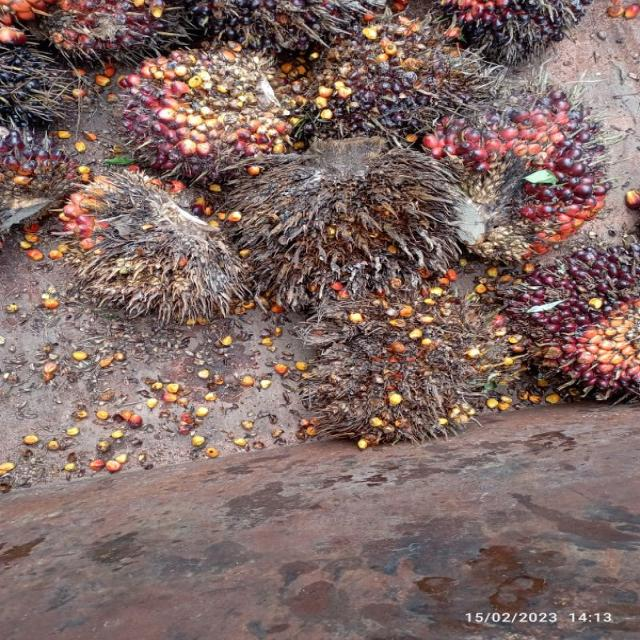fraksi 00: (299, 12, 504, 152)
fraksi 1: (373, 52, 628, 270), (91, 41, 314, 194), (467, 233, 640, 413)
fraksi 4: (50, 149, 270, 335)
